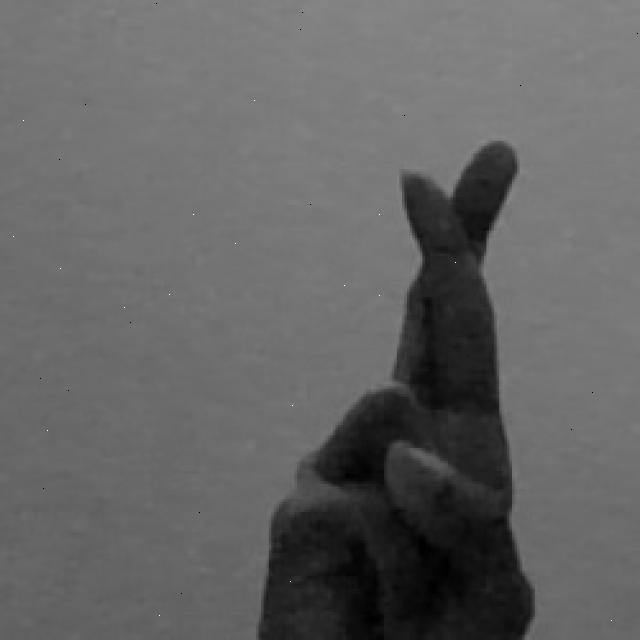R: (255, 135, 539, 640)
